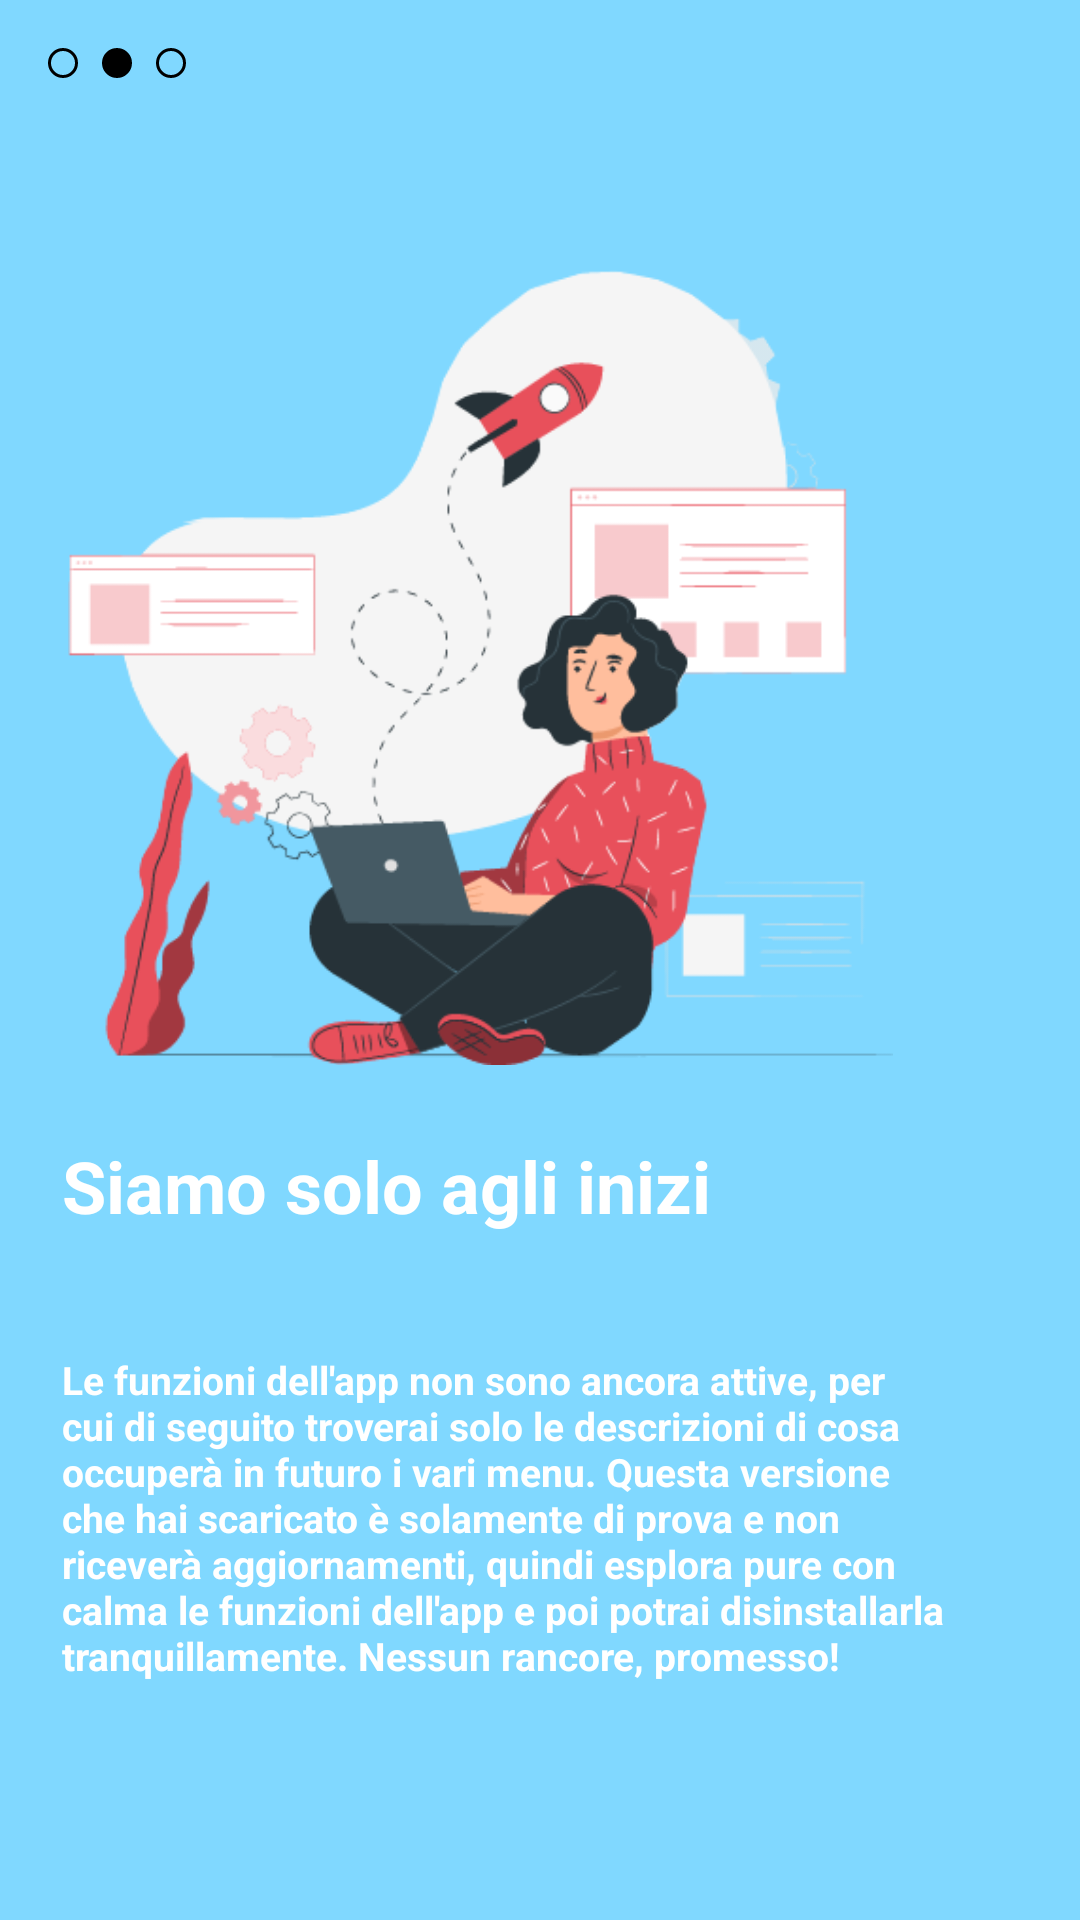

Named icons in this screenshot (1080x1920) and their centers, [x,y]:
circle: [117,63]
circle blank: [63,63], [171,63]
